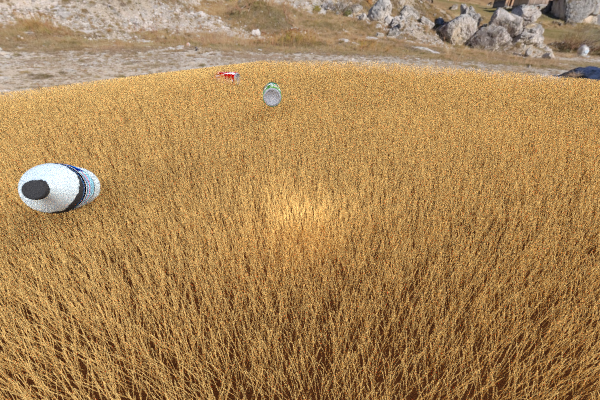Plastic Bottle: (17, 163, 100, 213), (262, 82, 281, 106), (213, 71, 241, 86)
